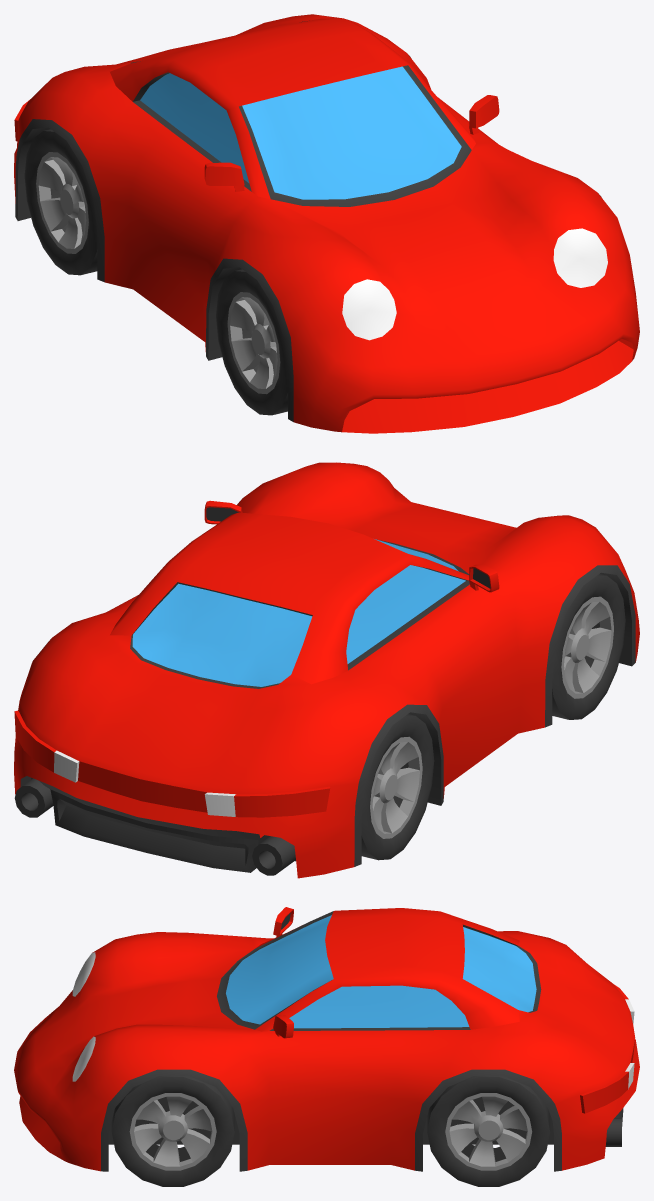
File: Cake_ThemeToys_O.FBX
3 views of the same model, one above another, from view 1: azimuth 30°, elevation 25°; view 2: azimuth 150°, elevation 25°; view 3: azimuth 270°, elevation 25° (orthographic). The views are drawn at different scales.
Visible parts, largest first — view 1: Cake_ThemeToys_O; view 2: Cake_ThemeToys_O; view 3: Cake_ThemeToys_O.
Part boxes in pixels (bbox=[...]): Cake_ThemeToys_O: bbox=[14, 14, 639, 433]; Cake_ThemeToys_O: bbox=[14, 462, 639, 878]; Cake_ThemeToys_O: bbox=[14, 907, 639, 1186].
Size of the model in its own units: 39480 by 24253 by 75508.
